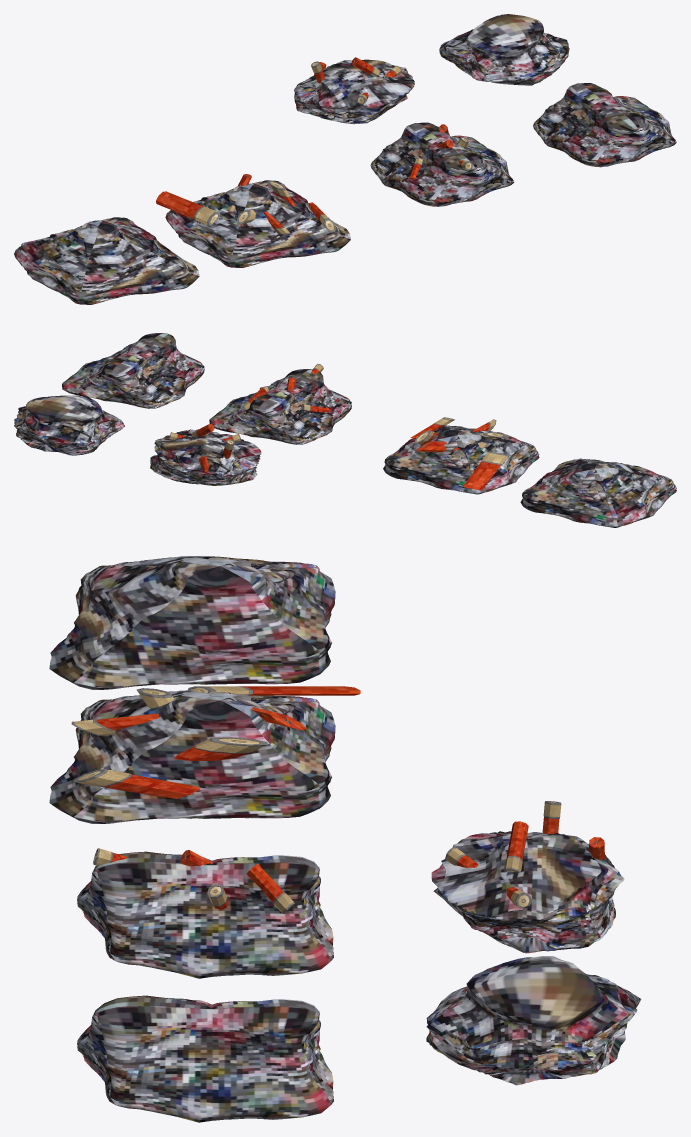
File: Trash.fbx
3 views of the same model, one above another, from view 1: azimuth 30°, elevation 25°; view 2: azimuth 150°, elevation 25°; view 3: azimuth 270°, elevation 25° (orthographic). The views are drawn at different scales.
Parts seen in each view (by area): view 1: rock.001, rock.002, rock.003, rock.006, rock.004, rock.010, Cube.005; view 2: rock.001, rock.003, rock.006, rock.002, rock.004, rock.010, Cube.005, Cube.002; view 3: rock.001, rock.002, rock.003, rock.006, rock.004, rock.010, Cube.006, Cube.005, Cube.001, Cube.004, Cube.010, Cube.012.
Part boxes in pixels (x1,y1,x2,y2): rock.001: (14,217,199,304); rock.002: (165,180,350,267); rock.003: (533,83,676,167); rock.006: (370,122,514,206); rock.004: (439,14,569,85); rock.010: (294,59,414,124); Cube.005: (156,191,219,225); rock.001: (520,458,676,527); rock.003: (62,333,204,408); rock.006: (209,369,351,444); rock.002: (383,425,539,494); rock.004: (14,395,124,455); rock.010: (150,429,261,485); Cube.005: (462,451,508,490); Cube.002: (416,441,488,452); rock.001: (49,556,335,689); rock.002: (49,690,335,823); rock.003: (77,995,333,1122); rock.006: (77,851,333,978); rock.004: (426,956,641,1085); rock.010: (431,831,624,953); Cube.006: (73,769,199,798); Cube.005: (188,686,360,695); Cube.001: (173,737,267,760); Cube.004: (71,713,159,736); Cube.010: (246,863,295,913); Cube.012: (503,821,528,872).
Size of the model in its own units: 615 by 62.21 by 275.
Materials: 4 (4 with a texture image).
